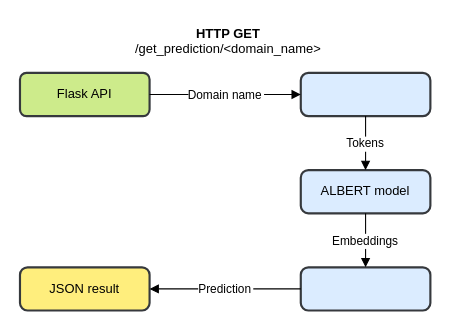
The diagram is 449 pixels wide and 329 high, and some of its shapes have lost their labels. Here are the shapes that lost their labels. From the top down, the centre of each, then its label:
point 365,94: Tokenizer
point 365,288: Logistic regression
